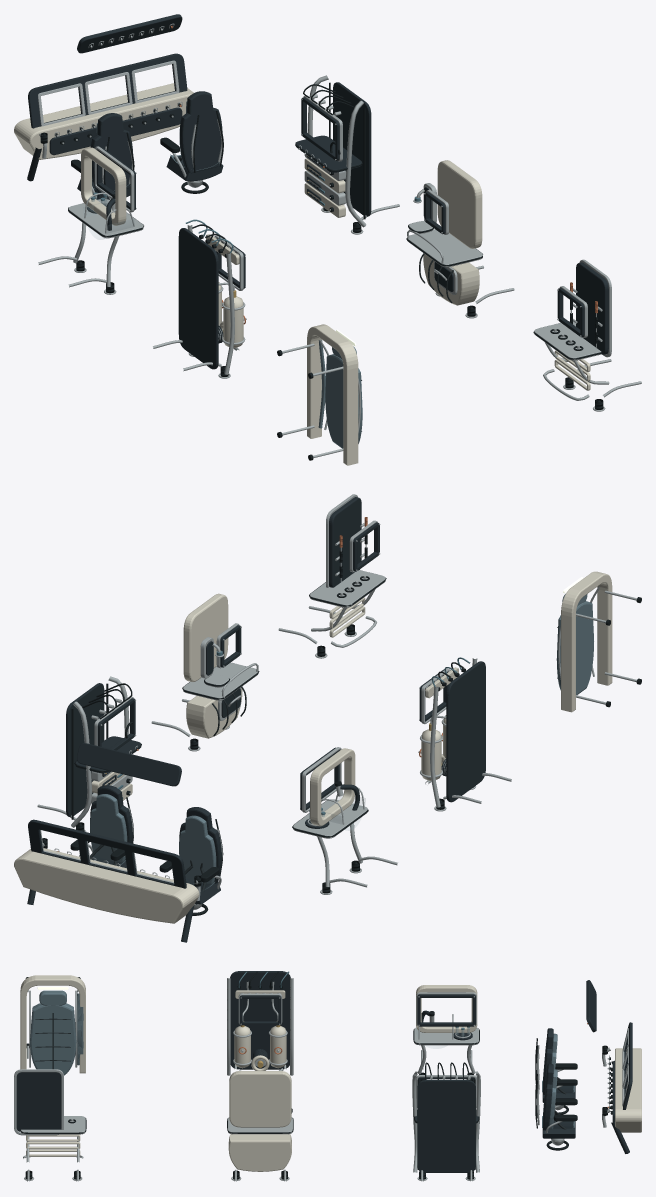
The model's file is mission-workstations.glb.
3 views of the same model, one above another, from view 1: azimuth 30°, elevation 25°; view 2: azimuth 150°, elevation 25°; view 3: azimuth 270°, elevation 25° (orthographic). The views are drawn at different scales.
Visible parts, largest first — view 1: batched static cabin fittings (×5); view 2: batched static cabin fittings (×5); view 3: batched static cabin fittings (×6).
Part boxes in pixels (x1,y1,x2,y2): batched static cabin fittings (×5): (14,14,641,465); batched static cabin fittings (×5): (14,494,641,942); batched static cabin fittings (×6): (14,971,641,1181).
Bounding box in the file's own units: 5.94 × 2.78 × 11.97.
